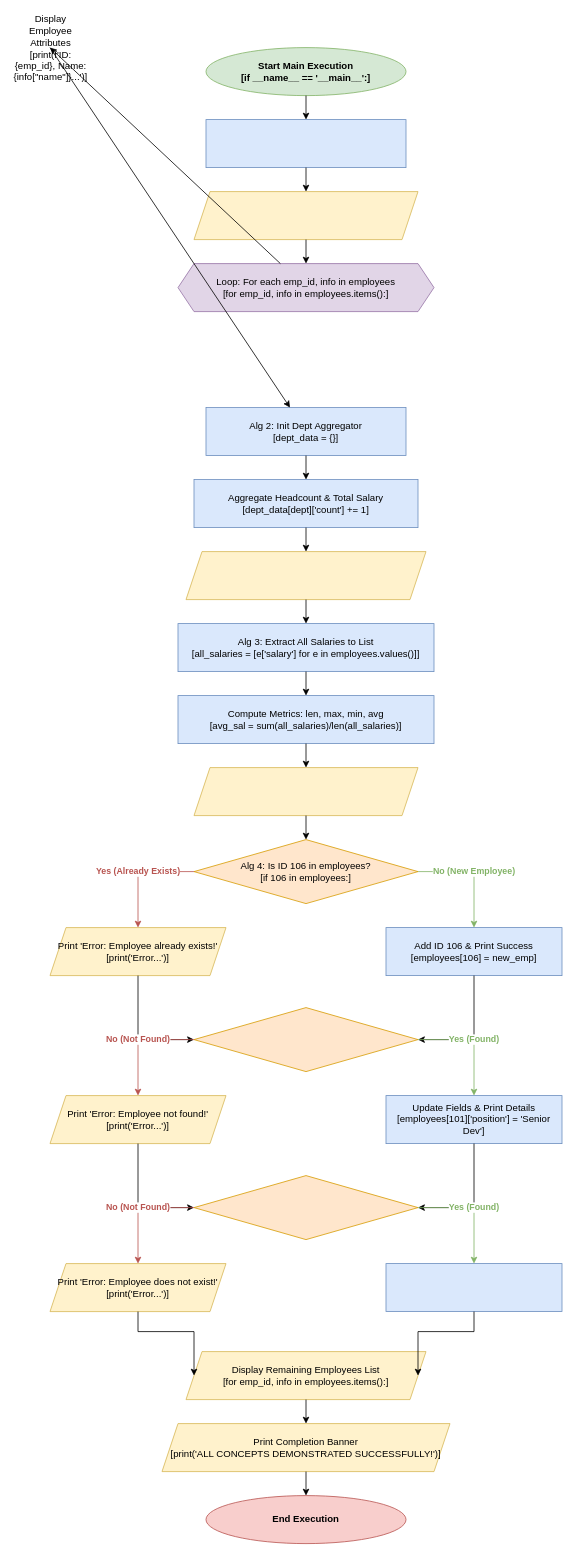
The diagram is 576 pixels wide and 1558 high, and some of its shapes have lost their labels. The shapes that lost their labels are listed below. From the top down, each one's centre as x and y in pixels, then its label:
At [305,143]: "Initialize employees dictionary [employees = {101: {...}, ...}]".
At [305,215]: "Alg 1: Print Header & Lines [print('ALL EMPLOYEES')]".
At [305,575]: "Print Department Summary & Avg Salary [avg = total_salary / count]".
At [305,791]: "Display Salary Statistics [print(f'Highest: {highest_salary}...')]".
At [305,1039]: "Alg 5: Is ID 101 in employees? [if 101 in employees:]".
At [305,1207]: "Alg 6: Is ID 104 in employees? [if 104 in employees:]".
At [473,1287]: "Delete ID 104 using del [del employees[104]]".
